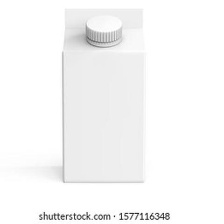carton: (58, 3, 153, 187)
